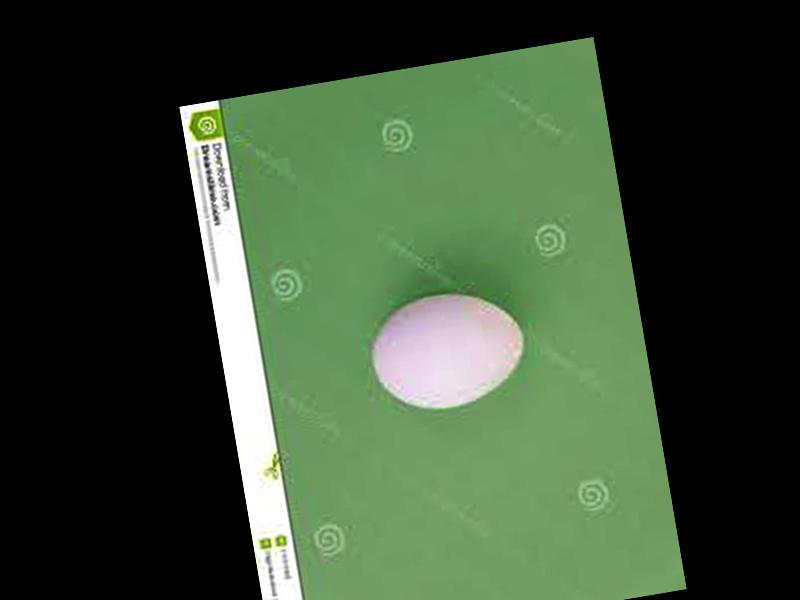Eggs: (364, 281, 530, 417)
